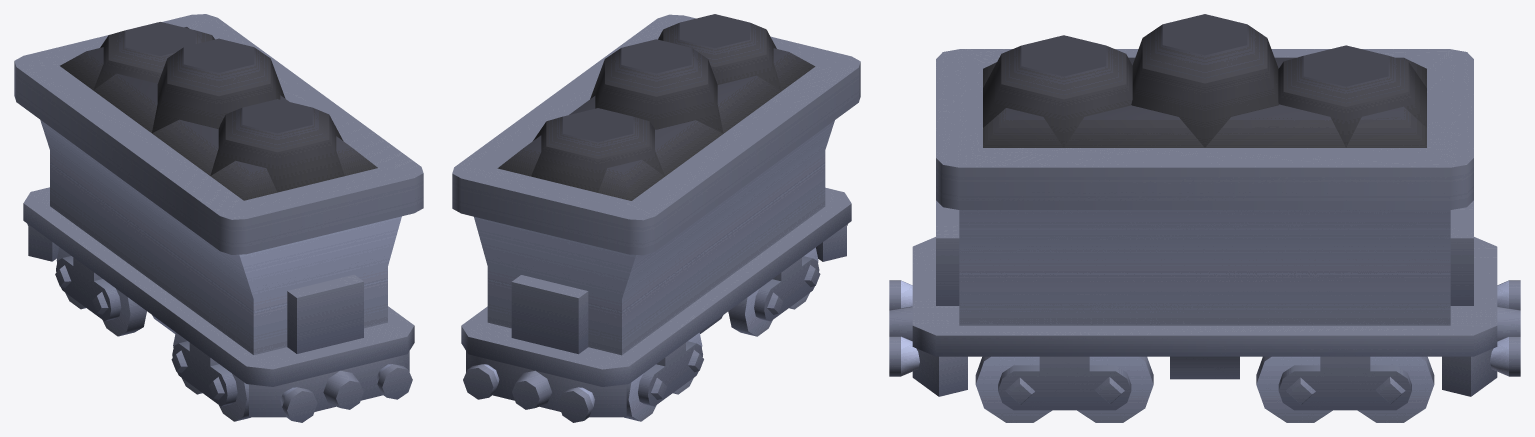
Rendered from train-carriage-coal.glb.
3 renders of one model, left to right at view 1: azimuth 30°, elevation 25°; view 2: azimuth 150°, elevation 25°; view 3: azimuth 270°, elevation 25°, orthographic. The views are drawn at different scales.
Visible parts, largest first — view 1: train-carriage-coal, cargo, wheels-back, wheels-front; view 2: train-carriage-coal, cargo, wheels-front, wheels-back; view 3: train-carriage-coal, cargo, wheels-back, wheels-front.
Part boxes in pixels (box(x1,y1,x2,y2)): train-carriage-coal: box(14, 14, 423, 422); cargo: box(60, 22, 377, 200); wheels-back: box(55, 247, 146, 336); wheels-front: box(171, 332, 250, 421); train-carriage-coal: box(452, 14, 860, 422); cargo: box(497, 14, 815, 200); wheels-front: box(728, 247, 820, 336); wheels-back: box(624, 332, 703, 421); train-carriage-coal: box(889, 49, 1520, 396); cargo: box(983, 14, 1426, 147); wheels-back: box(1256, 356, 1434, 422); wheels-front: box(975, 356, 1153, 422).
Size of the model in its own units: 1.2 by 1.65 by 2.7.
Materials: 1 (1 with a texture image).
